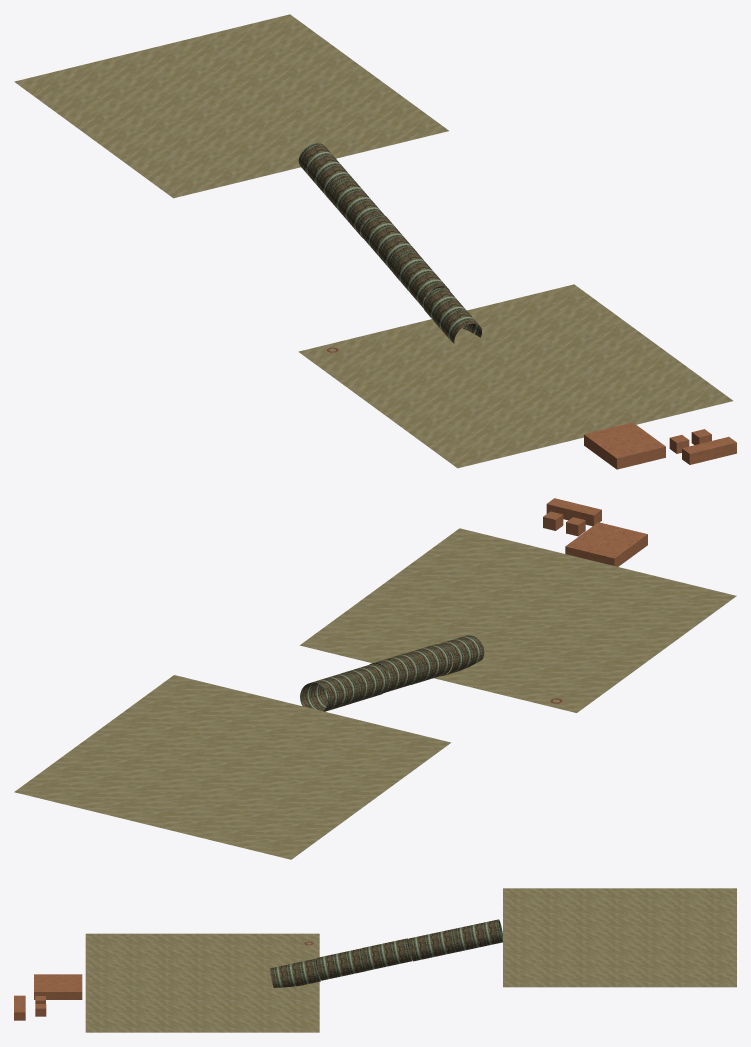
File: lltest2.glb
3 views of the same model, one above another, from view 1: azimuth 30°, elevation 25°; view 2: azimuth 150°, elevation 25°; view 3: azimuth 270°, elevation 25° (orthographic). The views are drawn at different scales.
Visible parts, largest first — view 1: Plane, Plane.001, Cube.003, Cylinder.004, Cylinder.003, Cylinder.001, Cylinder.002, Cylinder, Cube.002; view 2: Plane, Plane.001, Cube.003, Cylinder, Cylinder.002, Cylinder.001, Cylinder.003, Cylinder.004, Cube.002; view 3: Plane, Plane.001, Cube.003, Cylinder.002, Cylinder, Cylinder.003, Cylinder.001, Cylinder.004, Cube.002.
Part boxes in pixels (x1,y1,x2,y2): Plane: (14, 14, 448, 198); Plane.001: (298, 284, 732, 468); Cube.003: (584, 422, 665, 469); Cylinder.004: (423, 287, 481, 343); Cylinder.003: (391, 250, 449, 307); Cylinder.001: (329, 178, 384, 238); Cylinder.002: (361, 214, 417, 271); Cylinder: (298, 143, 353, 200); Cube.002: (682, 437, 736, 464); Plane: (14, 675, 450, 859); Plane.001: (299, 528, 736, 712); Cube.003: (565, 522, 647, 566); Cylinder: (300, 673, 358, 711); Cylinder.002: (369, 653, 421, 692); Cylinder.001: (342, 663, 389, 703); Cylinder.003: (406, 644, 452, 684); Cylinder.004: (438, 635, 484, 676); Cube.002: (546, 498, 601, 526); Plane: (503, 888, 736, 987); Plane.001: (85, 933, 319, 1032); Cube.003: (34, 974, 82, 999); Cylinder.002: (361, 938, 412, 970); Cylinder: (454, 919, 502, 951); Cylinder.003: (316, 948, 366, 980); Cylinder.001: (408, 929, 457, 961); Cylinder.004: (270, 958, 320, 987); Cube.002: (14, 995, 25, 1020).
Size of what is drawn, in the model's own units: 200 by 65.64 by 618.
Materials: 9 (9 with a texture image).
